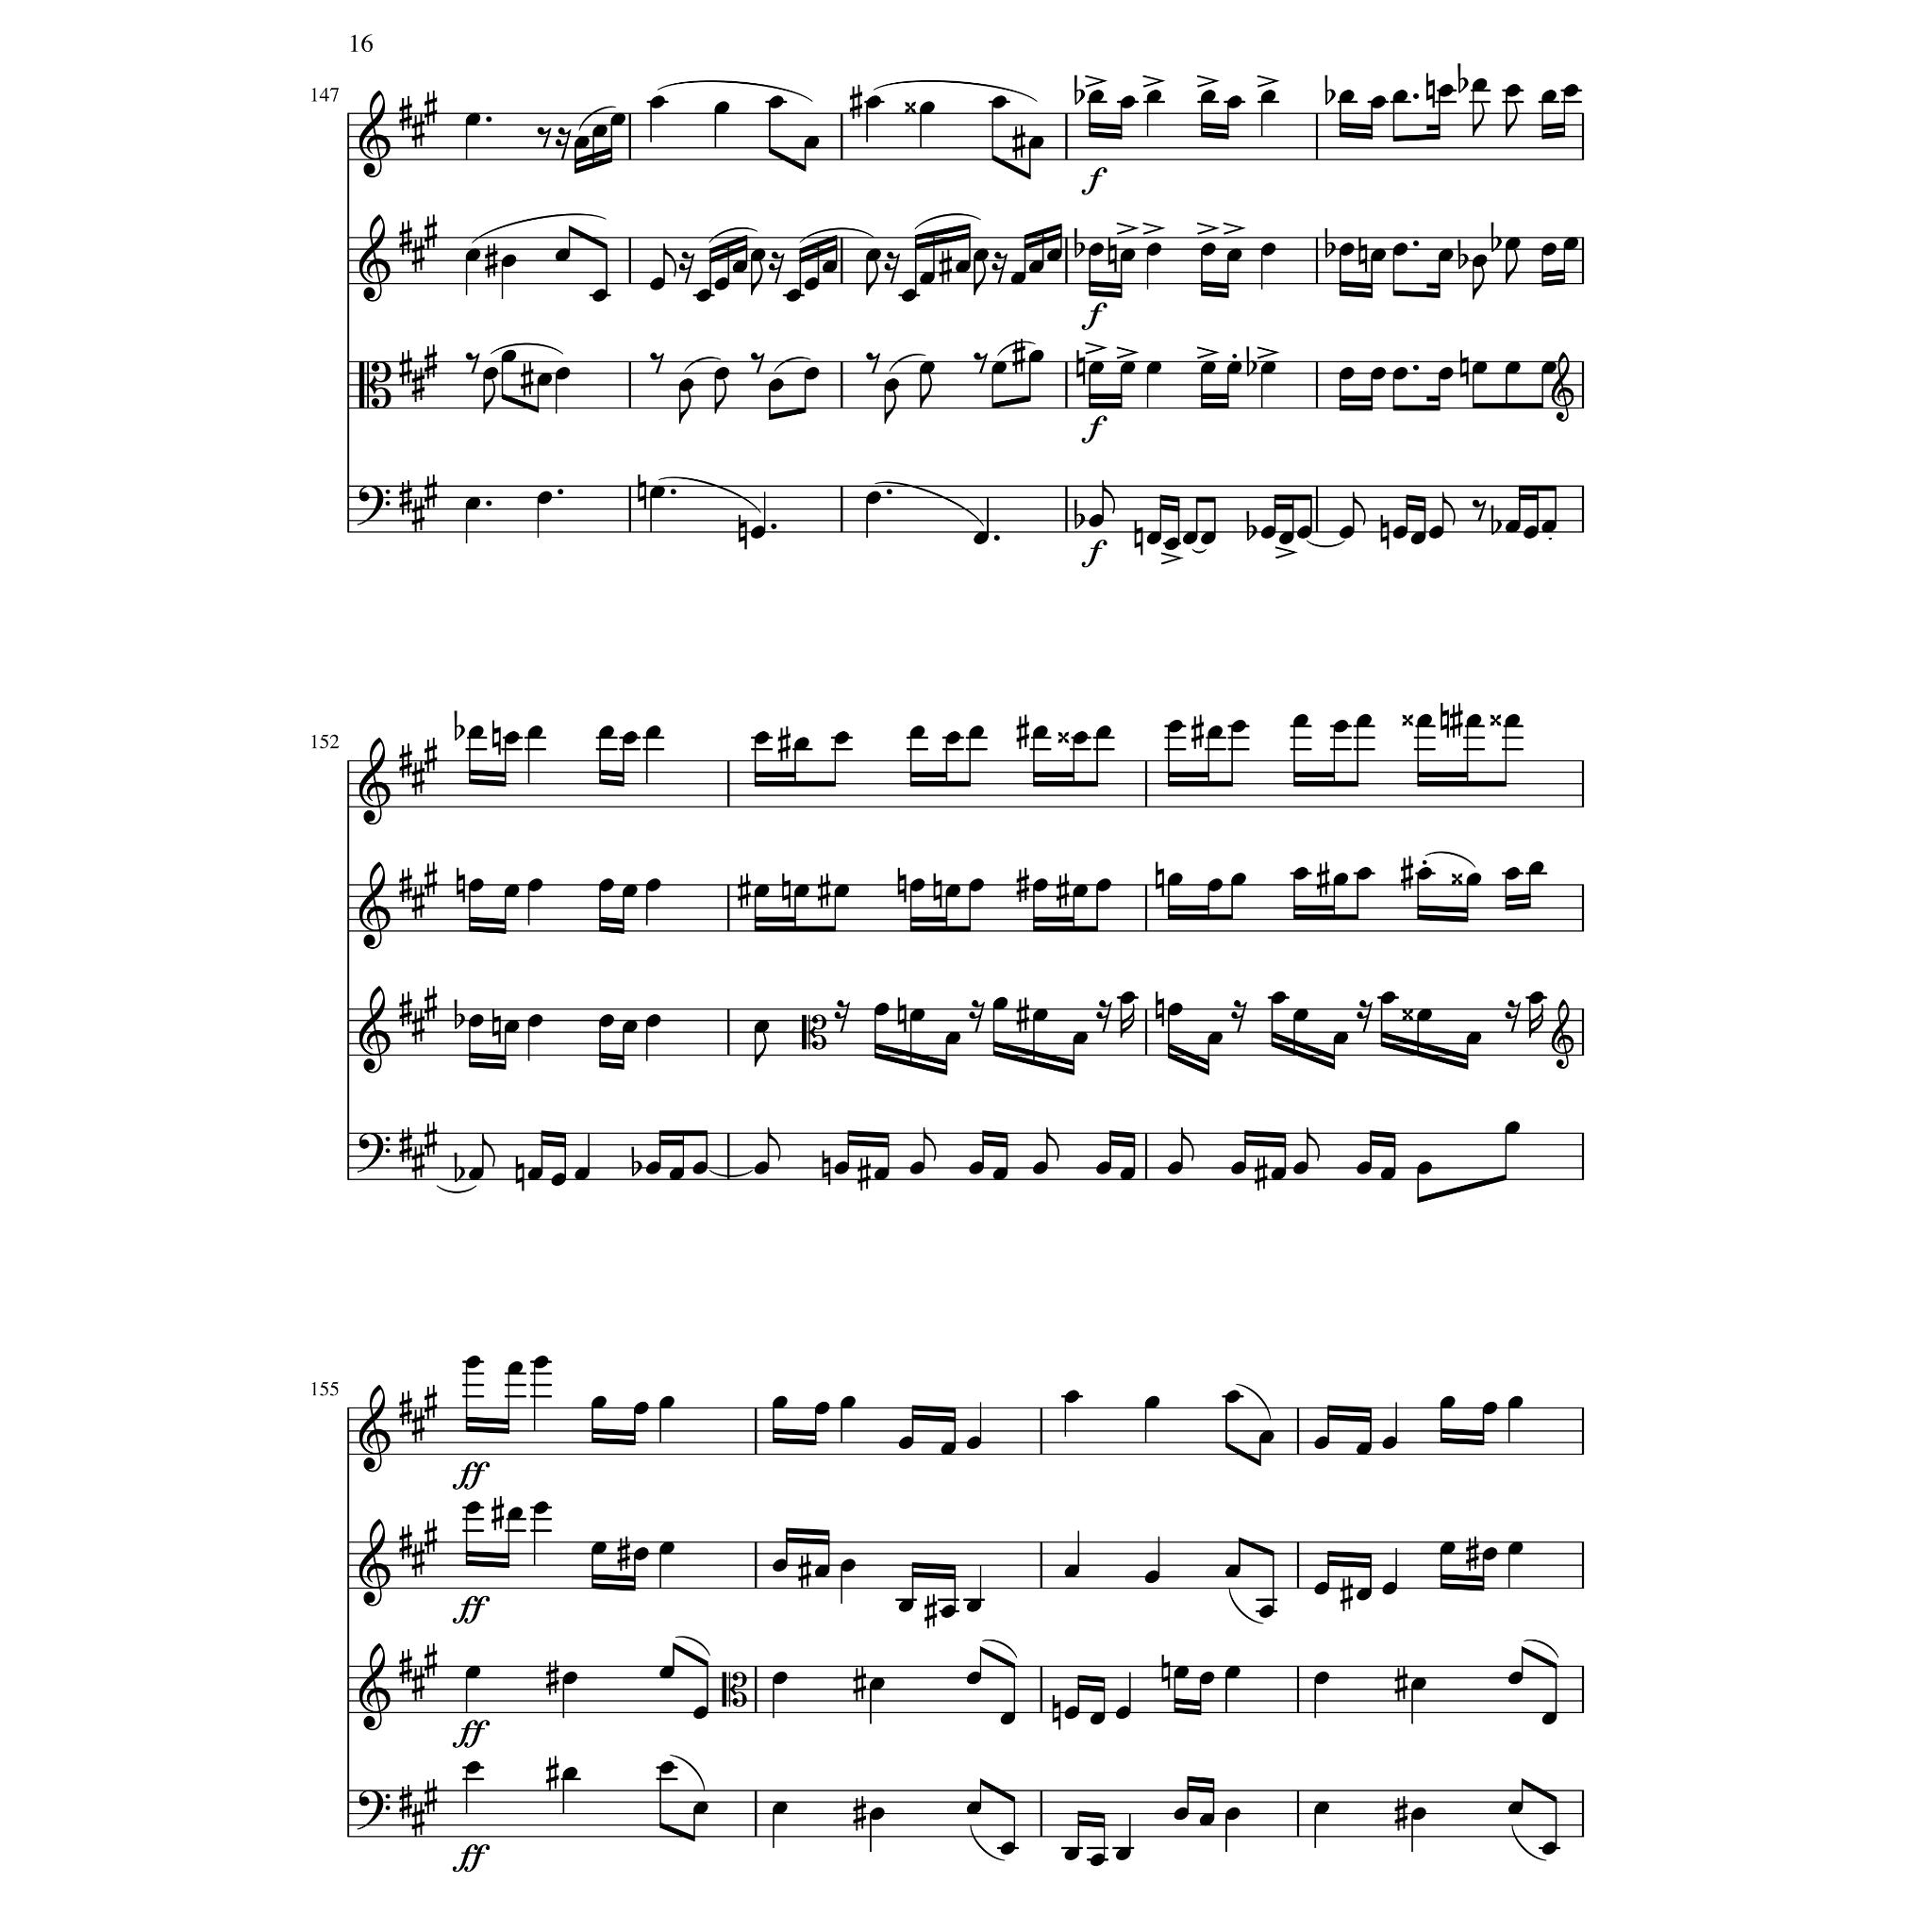fClef: (357, 485, 391, 525), (357, 1132, 391, 1173), (357, 1790, 391, 1831)
flag16thDown: (1529, 1003, 1545, 1039), (1120, 1003, 1134, 1039)
flag8thDown: (1472, 265, 1484, 301), (1506, 249, 1518, 285), (920, 373, 932, 409), (1506, 103, 1518, 136), (1472, 103, 1484, 136), (750, 262, 763, 295), (679, 391, 692, 425), (715, 380, 727, 414), (483, 380, 495, 414), (867, 262, 879, 295), (885, 391, 897, 425), (754, 1033, 766, 1067), (975, 262, 985, 295)
flag8thUp: (1442, 492, 1456, 527), (1046, 1129, 1060, 1162), (1306, 1129, 1320, 1162), (481, 1134, 495, 1168), (1353, 492, 1366, 527), (1102, 481, 1115, 515), (663, 244, 676, 278), (1182, 1129, 1194, 1162), (924, 1129, 936, 1162), (768, 1129, 780, 1162)
gClef: (359, 736, 391, 826), (359, 90, 391, 179), (359, 214, 391, 303), (359, 985, 391, 1074), (359, 862, 391, 950), (359, 1518, 391, 1606), (359, 1642, 391, 1730), (359, 1384, 391, 1472)
noteheadBlack: (1369, 366, 1387, 380), (1369, 96, 1387, 110), (731, 260, 748, 274), (1355, 1161, 1373, 1175), (644, 878, 662, 892), (644, 1014, 662, 1028), (644, 1161, 662, 1175), (502, 731, 520, 745), (502, 1019, 520, 1033), (1313, 1437, 1330, 1451), (1313, 1582, 1330, 1596), (1355, 1442, 1373, 1456), (1355, 1587, 1373, 1601), (658, 1396, 676, 1410), (658, 1541, 676, 1555), (658, 1665, 676, 1679), (658, 1760, 676, 1775), (1226, 361, 1242, 375), (1279, 531, 1295, 545), (1226, 96, 1242, 110), (1260, 88, 1276, 103), (1260, 242, 1276, 257), (1260, 361, 1276, 375), (1338, 88, 1353, 103), (1338, 242, 1353, 257), (1338, 366, 1353, 380), (1120, 96, 1136, 110), (1120, 361, 1136, 375), (1146, 88, 1162, 103), (1146, 242, 1162, 257), (1201, 88, 1217, 103), (1201, 242, 1217, 257), (1201, 361, 1217, 375), (1201, 531, 1217, 545), (1146, 361, 1162, 375), (1146, 531, 1162, 545), (1182, 531, 1198, 545), (1562, 83, 1578, 97), (1541, 88, 1557, 103), (1541, 242, 1557, 257), (1541, 361, 1557, 375), (1541, 520, 1557, 534), (1410, 531, 1426, 545), (1438, 83, 1454, 97), (1438, 366, 1454, 380), (1392, 88, 1408, 103), (1392, 242, 1408, 257), (1392, 366, 1408, 380), (1504, 83, 1520, 97), (1504, 361, 1520, 375), (1504, 520, 1520, 534), (1472, 78, 1488, 92), (1472, 361, 1488, 375), (649, 96, 665, 110), (768, 96, 784, 110), (713, 366, 729, 380), (483, 366, 499, 380), (593, 124, 609, 138), (536, 492, 552, 506), (973, 531, 989, 545), (991, 96, 1007, 110), (991, 361, 1007, 375), (920, 271, 936, 285), (920, 361, 936, 375), (955, 260, 971, 274), (1088, 88, 1104, 103), (1088, 242, 1104, 257), (1088, 361, 1104, 375), (1010, 271, 1026, 285), (1028, 260, 1044, 274), (823, 260, 839, 274), (865, 96, 881, 110), (865, 492, 881, 506), (803, 366, 819, 380), (1231, 872, 1247, 886), (1207, 1031, 1223, 1046), (1231, 720, 1247, 734), (1207, 878, 1223, 892), (1293, 1161, 1309, 1175), (1293, 1008, 1309, 1023), (1231, 1161, 1247, 1175), (1270, 991, 1286, 1005), (1072, 1031, 1088, 1046), (1072, 731, 1088, 745), (1166, 720, 1182, 734), (1166, 872, 1182, 886), (1166, 1161, 1182, 1175), (1120, 991, 1136, 1005), (1529, 991, 1545, 1005), (1504, 1122, 1520, 1136), (1332, 720, 1348, 734), (1332, 872, 1348, 886), (1332, 1031, 1348, 1046), (1380, 991, 1396, 1005), (1465, 872, 1481, 886), (1465, 1031, 1481, 1046), (1417, 1008, 1433, 1023), (1417, 1161, 1433, 1175), (623, 731, 639, 745), (623, 1019, 639, 1033), (598, 878, 614, 892), (598, 1014, 614, 1028), (692, 1161, 708, 1175), (754, 731, 770, 745), (754, 1019, 770, 1033), (754, 1161, 770, 1175), (467, 878, 483, 892), (467, 1014, 483, 1028), (527, 878, 543, 892), (527, 1014, 543, 1028), (945, 731, 961, 745), (945, 1031, 961, 1046), (909, 878, 925, 892), (909, 1008, 925, 1023), (909, 1161, 925, 1175), (993, 996, 1008, 1010), (1033, 878, 1049, 892), (1033, 1008, 1049, 1023), (1033, 1161, 1049, 1175), (968, 878, 984, 892), (968, 1161, 984, 1175), (833, 731, 849, 745), (833, 1161, 849, 1175), (1258, 1430, 1274, 1444), (1224, 1391, 1240, 1405), (1224, 1665, 1240, 1679), (1173, 1665, 1189, 1679), (1145, 1396, 1161, 1410), (1145, 1571, 1161, 1585), (1382, 1437, 1398, 1451), (1382, 1582, 1398, 1596), (1410, 1677, 1426, 1691), (1481, 1401, 1497, 1415), (1481, 1546, 1497, 1560), (1507, 1396, 1523, 1410), (1507, 1541, 1523, 1555), (1438, 1541, 1454, 1555), (1438, 1396, 1454, 1410), (633, 1401, 649, 1415), (633, 1546, 649, 1560), (591, 1396, 607, 1410), (591, 1541, 607, 1555), (771, 1396, 787, 1410), (771, 1559, 787, 1573), (465, 1355, 481, 1369), (465, 1500, 481, 1514), (465, 1665, 481, 1679), (465, 1760, 481, 1775), (508, 1507, 524, 1522), (508, 1361, 524, 1375), (533, 1355, 548, 1369), (533, 1500, 548, 1514), (939, 1442, 955, 1456), (966, 1437, 982, 1451), (966, 1599, 982, 1614), (897, 1437, 913, 1451), (897, 1599, 913, 1614), (1063, 1391, 1079, 1405), (814, 1401, 830, 1415), (840, 1396, 856, 1410), (869, 1677, 885, 1691), (840, 1559, 856, 1573), (1369, 249, 1387, 262), (901, 290, 918, 303), (1355, 715, 1373, 727), (1355, 867, 1373, 879), (573, 1168, 591, 1180), (644, 725, 662, 738), (502, 885, 520, 897), (1313, 1672, 1330, 1684), (1313, 1801, 1330, 1813), (556, 366, 570, 380), (1097, 878, 1111, 892), (1097, 1161, 1111, 1175), (1226, 249, 1242, 262), (1260, 525, 1276, 538), (1295, 525, 1311, 538), (1338, 525, 1353, 538), (1120, 249, 1136, 262), (1164, 538, 1180, 550), (1562, 237, 1578, 249), (1523, 525, 1539, 538), (1430, 525, 1445, 538), (1438, 249, 1454, 262), (1392, 525, 1408, 538), (1504, 237, 1520, 249), (1472, 255, 1488, 267), (678, 379, 694, 391), (649, 278, 665, 290), (610, 113, 626, 126), (649, 487, 665, 499), (750, 249, 766, 262), (750, 525, 766, 538), (768, 379, 784, 391), (695, 290, 711, 303), (713, 103, 729, 115), (713, 278, 729, 290), (465, 113, 481, 126), (465, 249, 481, 262), (465, 497, 481, 510), (573, 136, 589, 149), (593, 290, 609, 303), (501, 255, 517, 267), (501, 350, 517, 363), (536, 373, 552, 386), (973, 249, 989, 262), (920, 103, 936, 115), (1047, 249, 1063, 262), (1088, 515, 1104, 527), (1028, 136, 1044, 149), (1028, 350, 1044, 363), (865, 249, 881, 262), (786, 290, 801, 303), (803, 136, 819, 149), (803, 278, 819, 290), (883, 379, 899, 391), (1207, 725, 1223, 738), (1293, 715, 1309, 727), (1293, 867, 1309, 879), (1270, 1168, 1286, 1180), (1072, 885, 1088, 897), (1166, 1003, 1182, 1016), (1120, 1168, 1136, 1180), (1529, 862, 1545, 874), (1504, 715, 1520, 727), (1504, 867, 1520, 879), (1465, 715, 1481, 727), (1417, 867, 1433, 879), (1380, 1168, 1396, 1180), (1417, 715, 1433, 727), (623, 885, 639, 897), (550, 1173, 566, 1185), (598, 725, 614, 738), (669, 1168, 685, 1180), (467, 1168, 483, 1180), (467, 725, 483, 738), (527, 725, 543, 738), (527, 1168, 543, 1180), (754, 885, 770, 897), (945, 885, 961, 897), (909, 725, 925, 738), (993, 1168, 1008, 1180), (1033, 725, 1049, 738), (968, 725, 984, 738), (794, 738, 810, 750), (794, 885, 810, 897), (833, 885, 849, 897), (1258, 1605, 1274, 1617), (1224, 1566, 1240, 1578), (1224, 1808, 1240, 1821), (1090, 1713, 1106, 1725), (1090, 1854, 1106, 1867), (1173, 1808, 1189, 1821), (1198, 1672, 1214, 1684), (1198, 1813, 1214, 1826), (1115, 1706, 1131, 1718), (1115, 1849, 1131, 1861), (1541, 1713, 1557, 1725), (1541, 1842, 1557, 1854), (1410, 1808, 1426, 1821), (1507, 1672, 1523, 1684), (1507, 1801, 1523, 1813), (563, 1672, 579, 1684), (563, 1767, 579, 1780), (694, 1706, 709, 1718), (694, 1801, 709, 1813), (771, 1672, 787, 1684), (771, 1801, 787, 1813), (939, 1605, 955, 1617), (966, 1672, 982, 1684), (966, 1801, 982, 1813), (1063, 1566, 1079, 1578), (1063, 1706, 1079, 1718), (1063, 1849, 1079, 1861), (1000, 1713, 1016, 1725), (1000, 1842, 1016, 1854), (814, 1566, 830, 1578), (869, 1808, 885, 1821), (556, 249, 570, 262), (1097, 725, 1111, 738), (874, 1003, 888, 1016), (874, 1168, 888, 1180)
rest16th: (678, 251, 695, 285), (768, 251, 786, 285), (883, 251, 901, 285), (1230, 1000, 1247, 1033), (1504, 1000, 1522, 1033), (968, 1000, 985, 1033), (556, 127, 571, 161), (991, 251, 1007, 285), (1097, 1000, 1113, 1033), (1357, 1000, 1373, 1033), (833, 1000, 849, 1033)
rest8th: (536, 127, 552, 150), (1472, 499, 1486, 522), (649, 352, 663, 375), (750, 352, 764, 375), (465, 352, 479, 375), (973, 352, 987, 375), (865, 352, 879, 375)
